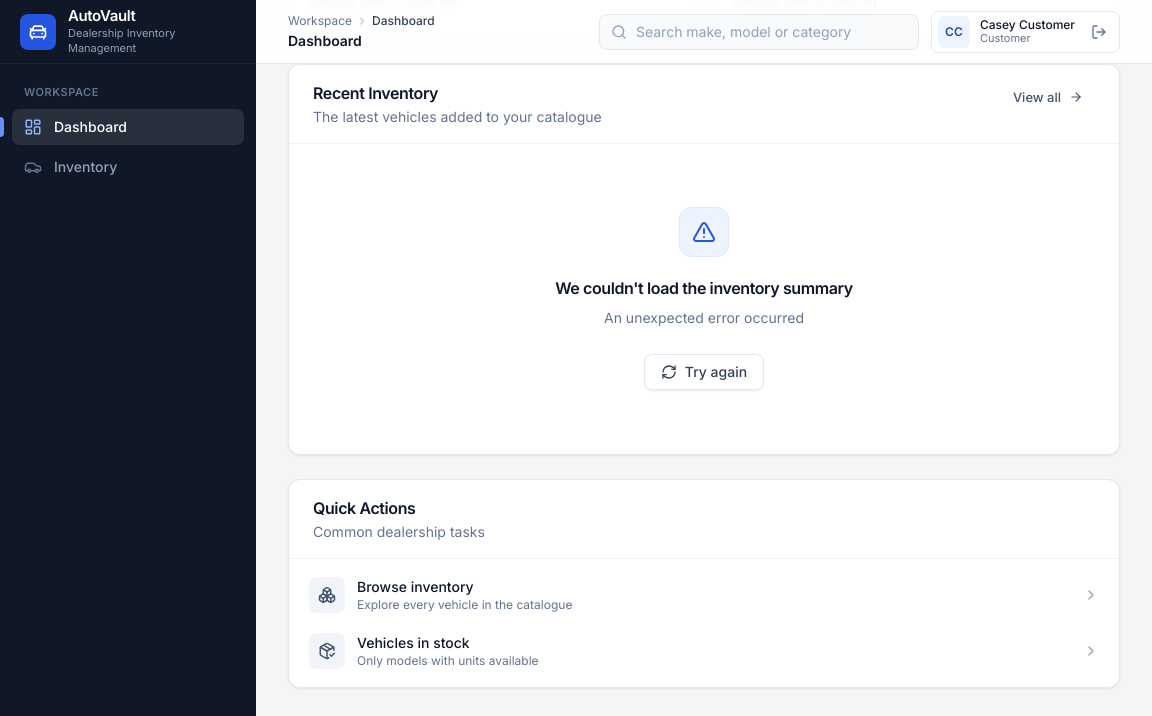
Test: dashboard › shows an error with a retry action and recovers
(page scrolled)
Expected: the heading "We couldn't load the inventory summary" is shown, [555, 276, 853, 300]
Click the button "Try again". click: (704, 372)
box: [644, 354, 764, 390]
(page scrolled)
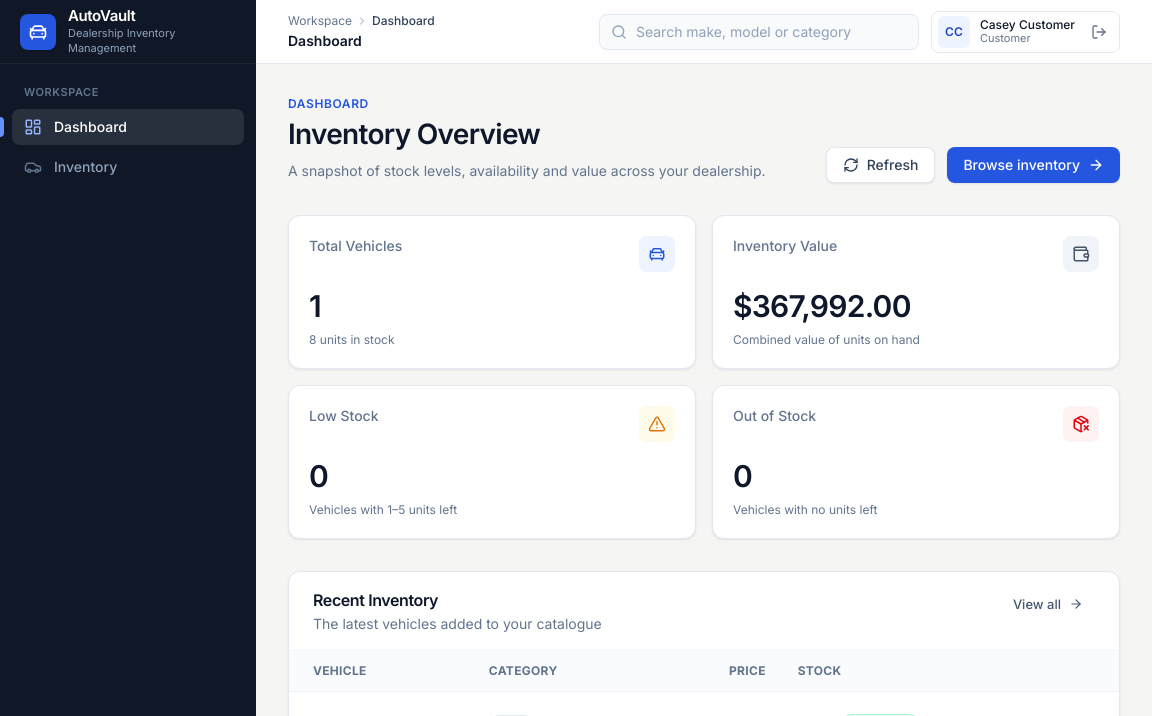
Expected: the text "1" is shown, [309, 288, 321, 324]
